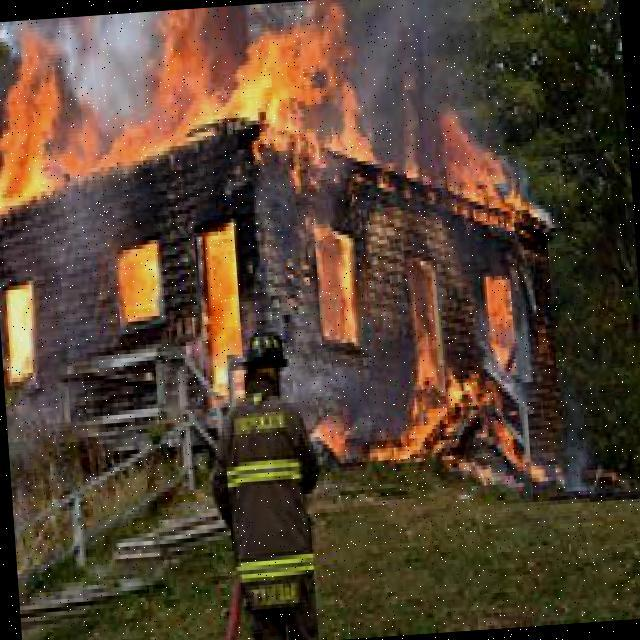Fire: (0, 6, 352, 204), (380, 333, 523, 470), (445, 115, 538, 223), (199, 224, 245, 394), (0, 275, 46, 388)
Smoke: (31, 197, 124, 388), (6, 387, 80, 474), (550, 372, 597, 500)
